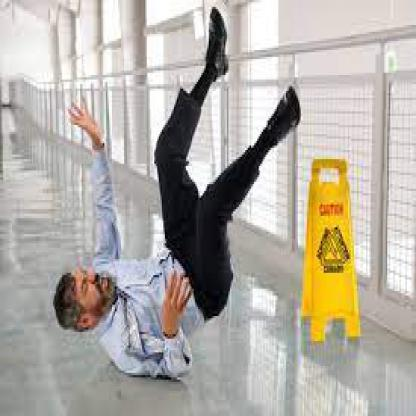Fall_Down: (52, 2, 302, 382)
